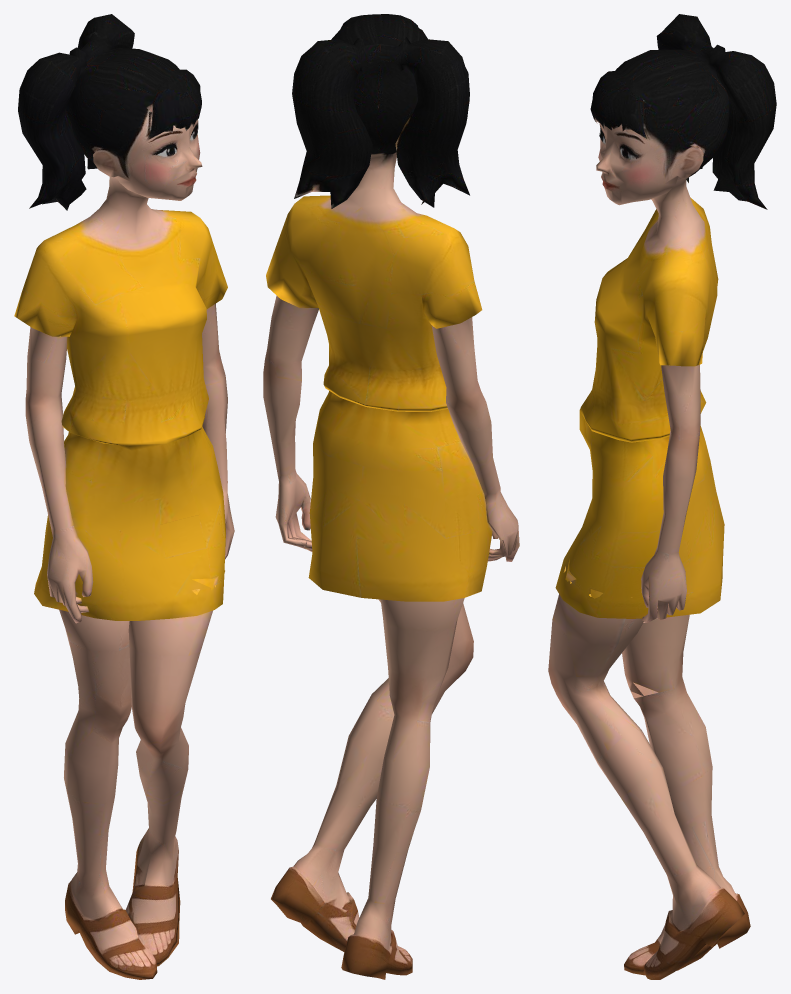
The model's file is ped_woman.glb.
The picture shows the model from 3 angles, left to right: view 1: azimuth 30°, elevation 25°; view 2: azimuth 150°, elevation 25°; view 3: azimuth 270°, elevation 25°; orthographic projection. The views are drawn at different scales.
Size of the model in its own units: 0.2271 by 0.9507 by 0.2139.
Materials: 1 (1 with a texture image).
